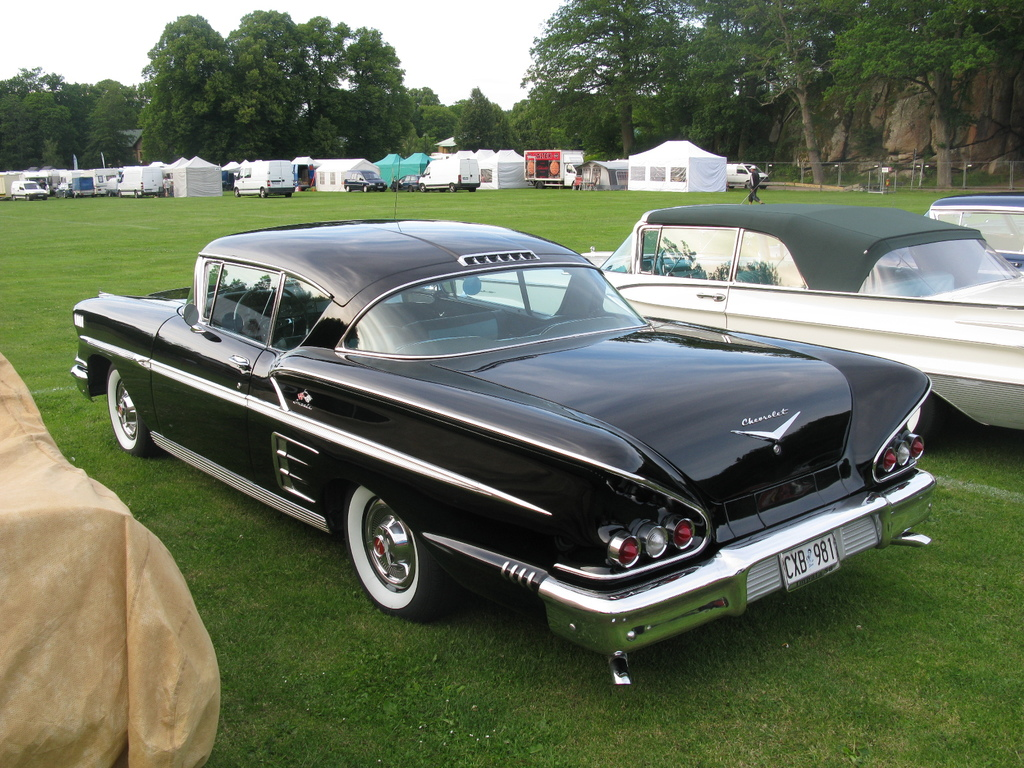Car: (83, 231, 928, 666), (580, 168, 1023, 426), (0, 351, 216, 767), (921, 192, 1023, 269), (343, 170, 384, 192), (391, 172, 420, 190)
